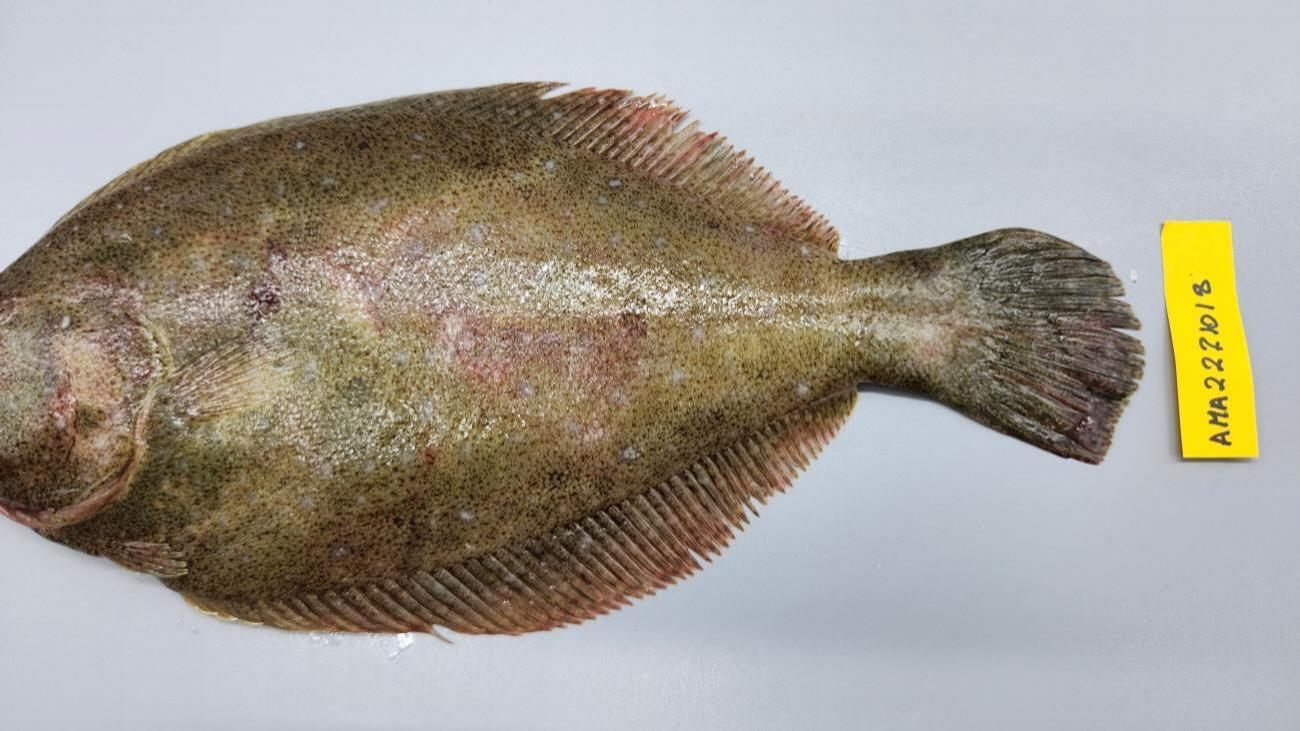MADYU: (433, 300, 648, 446), (328, 196, 454, 350), (55, 260, 142, 306), (246, 242, 296, 318), (915, 314, 960, 369)
MAFCH: (978, 304, 1145, 470)
